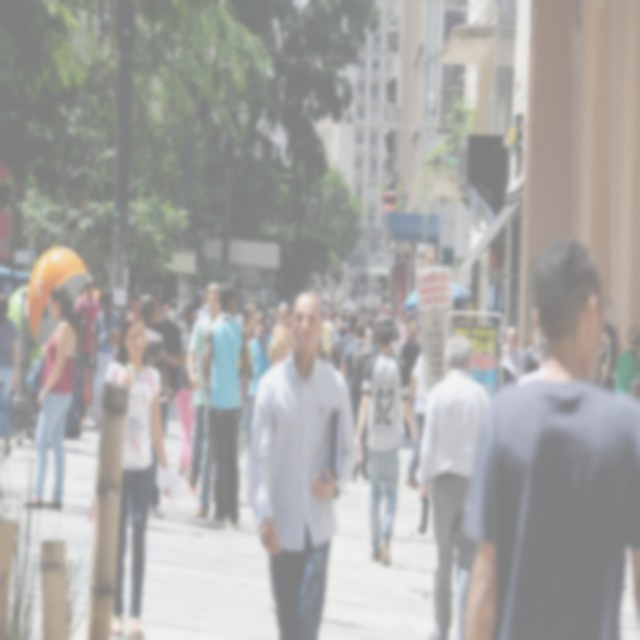pessoa: (455, 232, 639, 639), (248, 290, 359, 640), (99, 311, 175, 639), (414, 334, 492, 637), (351, 311, 422, 570), (19, 284, 81, 514), (200, 279, 252, 532), (142, 287, 186, 520), (186, 280, 223, 502), (340, 318, 378, 485), (246, 310, 274, 476), (136, 294, 176, 404), (174, 298, 198, 481), (403, 352, 432, 489), (253, 326, 294, 418), (76, 277, 100, 424), (0, 293, 20, 458), (400, 325, 422, 439), (90, 291, 122, 368), (312, 290, 382, 320), (514, 326, 550, 384), (520, 326, 552, 386), (614, 326, 639, 401), (594, 320, 614, 396), (502, 326, 526, 384), (308, 324, 324, 401), (269, 302, 295, 348), (498, 336, 516, 389), (327, 326, 347, 372), (97, 327, 123, 362), (320, 312, 336, 364), (326, 316, 342, 364), (241, 302, 257, 344), (329, 320, 346, 352), (256, 302, 280, 322), (522, 324, 536, 358), (495, 326, 507, 361), (394, 316, 410, 342), (452, 304, 468, 327), (266, 309, 278, 336), (191, 293, 201, 325), (128, 289, 140, 314), (344, 312, 354, 336), (168, 298, 178, 322), (235, 306, 245, 330), (95, 292, 107, 312), (364, 326, 374, 346), (162, 304, 174, 320), (362, 314, 369, 328), (198, 300, 206, 310), (471, 321, 482, 328), (391, 319, 395, 326)
